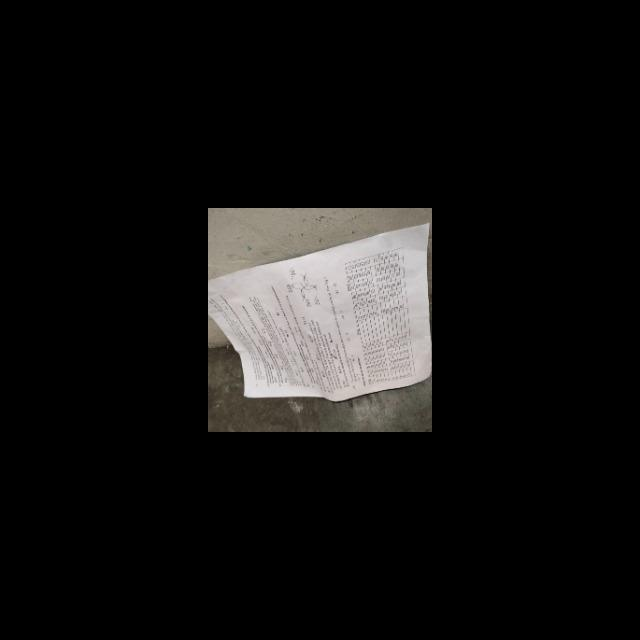paper: (208, 222, 432, 414)
